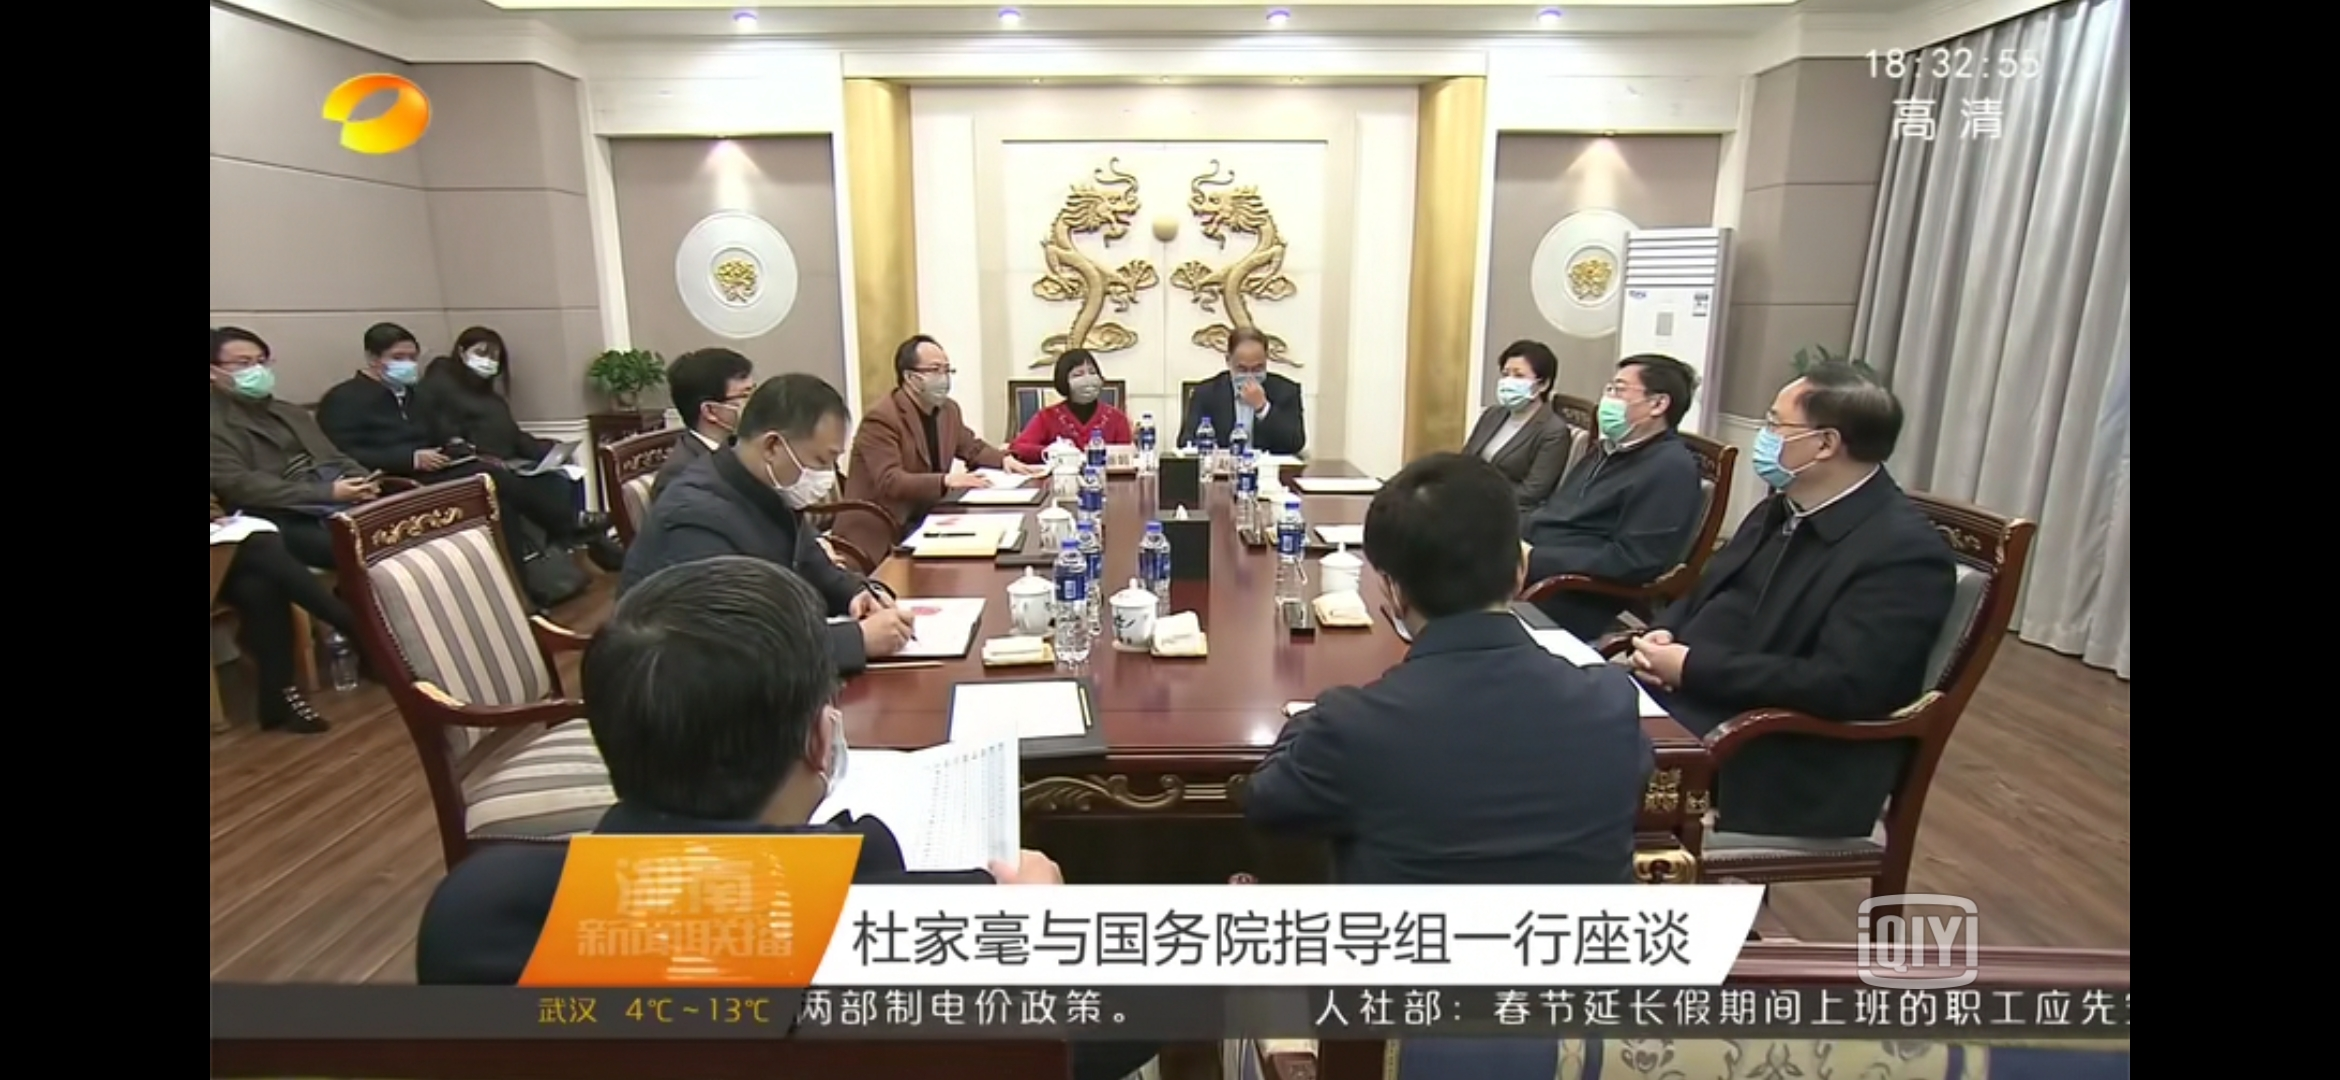correctlyWear: (1754, 403, 1839, 506), (760, 430, 842, 515), (1594, 377, 1673, 450), (212, 351, 278, 410), (700, 368, 757, 436), (1492, 364, 1554, 418), (366, 345, 419, 392), (904, 361, 954, 412), (457, 342, 501, 382), (1224, 352, 1266, 389), (1067, 368, 1101, 406)
